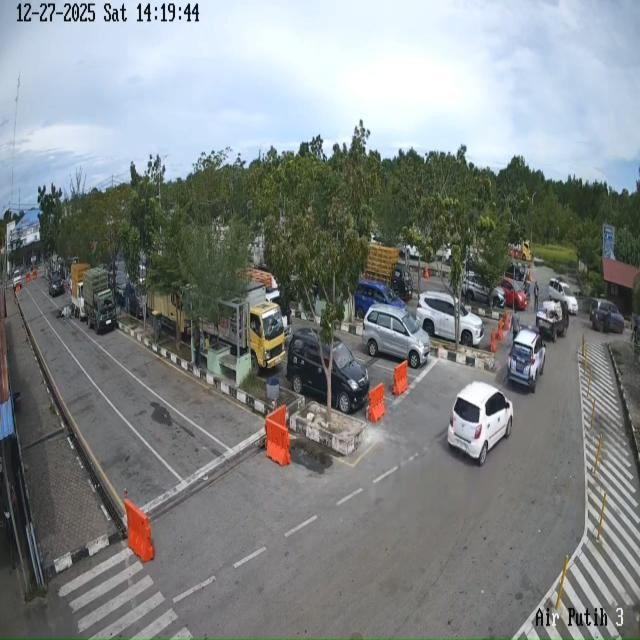Golongan IVA: (286, 328, 370, 413), (448, 381, 513, 466), (362, 304, 430, 369), (416, 292, 484, 347), (507, 328, 546, 392), (354, 280, 406, 319), (462, 273, 506, 308), (589, 298, 625, 334), (548, 278, 578, 315), (501, 277, 527, 311), (48, 274, 65, 297)
Golongan IVB: (364, 240, 414, 297), (82, 267, 116, 334), (536, 300, 569, 342), (70, 263, 90, 322)
Golongan VB: (202, 281, 285, 374)
